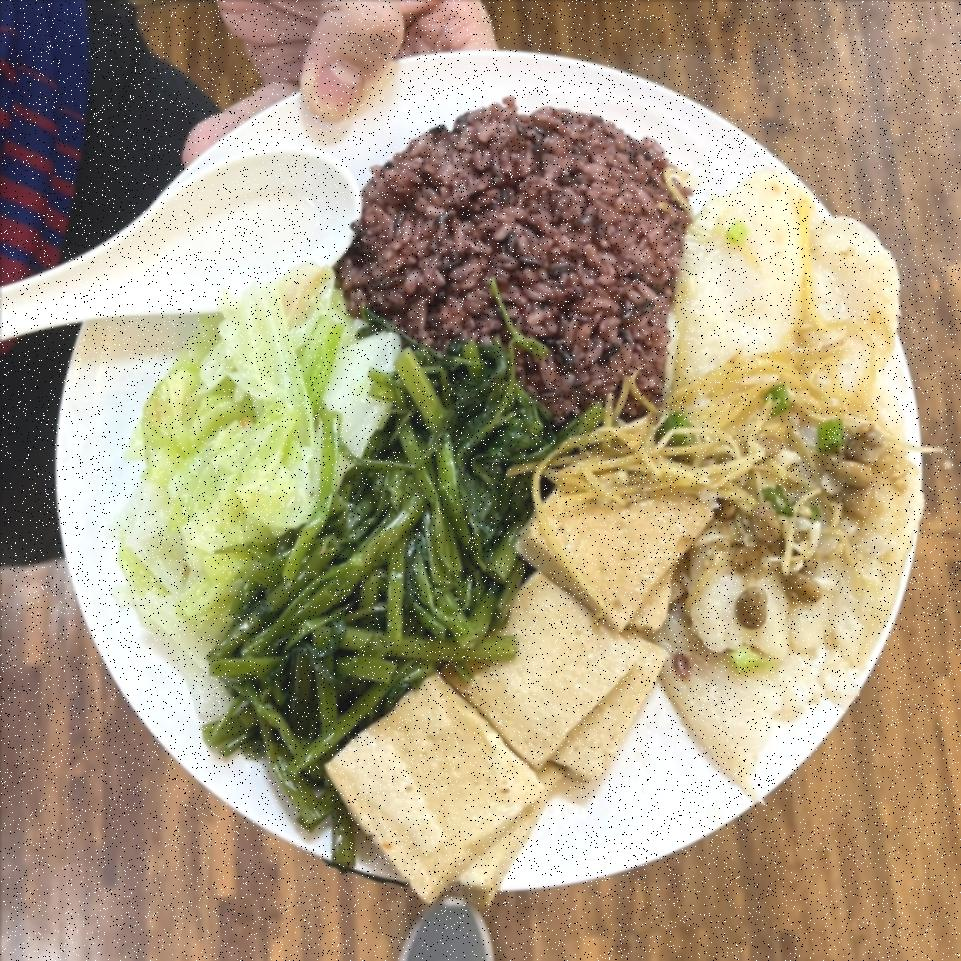plate: (39, 38, 922, 901)
purple rice: (337, 98, 696, 411)
side dish: (214, 353, 561, 836), (356, 473, 700, 909), (117, 273, 382, 672)
steamed fish fillet: (658, 162, 906, 810)
